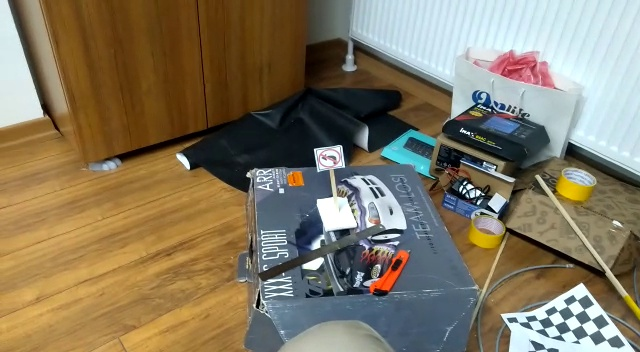sola_donulmez: (314, 146, 345, 170)
